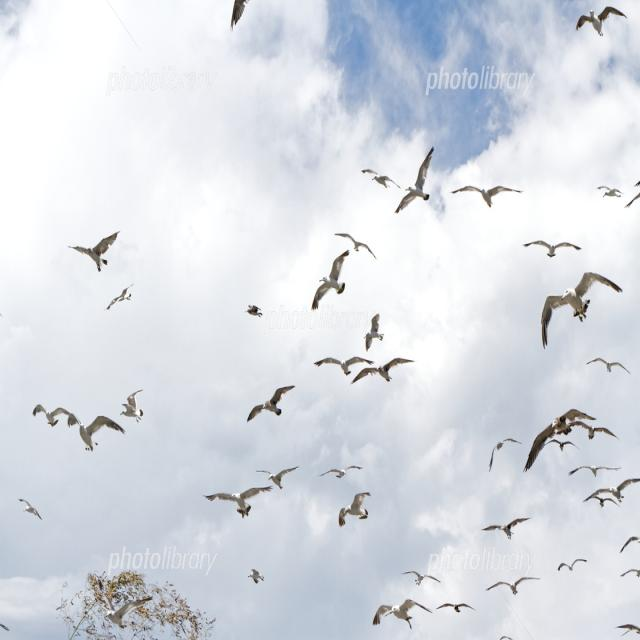bird: (540, 272, 624, 348), (531, 412, 593, 472), (395, 145, 434, 217), (64, 413, 124, 454), (451, 178, 522, 212), (208, 484, 278, 518), (311, 254, 348, 311), (575, 3, 629, 42), (71, 231, 122, 272), (246, 383, 296, 424), (363, 354, 415, 385), (523, 238, 581, 264), (481, 514, 534, 540), (487, 437, 521, 475), (336, 232, 376, 264), (487, 573, 538, 598), (340, 489, 373, 526), (587, 356, 632, 383), (258, 462, 298, 492), (312, 355, 369, 376), (384, 599, 430, 624), (319, 461, 364, 485), (582, 487, 625, 509), (400, 569, 441, 592), (362, 310, 384, 350), (358, 168, 395, 191), (118, 391, 144, 422), (572, 460, 612, 480), (31, 403, 62, 428), (595, 182, 627, 205), (107, 284, 134, 310), (584, 424, 619, 444), (555, 557, 588, 578), (439, 600, 475, 618), (546, 433, 578, 452), (17, 497, 42, 521), (369, 604, 392, 627), (620, 534, 640, 556), (621, 566, 640, 586), (617, 621, 640, 637), (248, 569, 267, 587), (245, 303, 262, 319)
